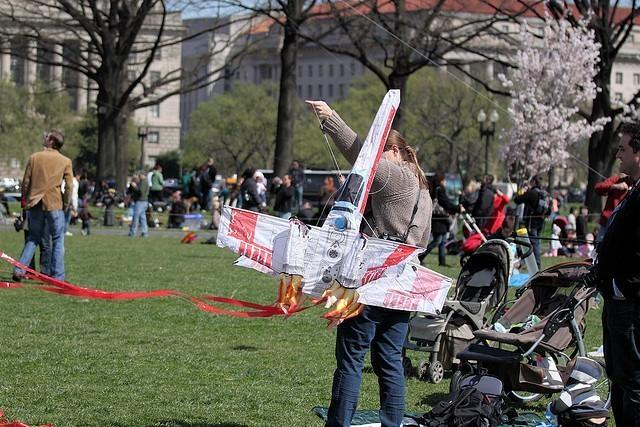bus: (302, 170, 463, 204)
car: (492, 184, 518, 200), (567, 190, 587, 203), (0, 182, 23, 192), (165, 178, 178, 193)
